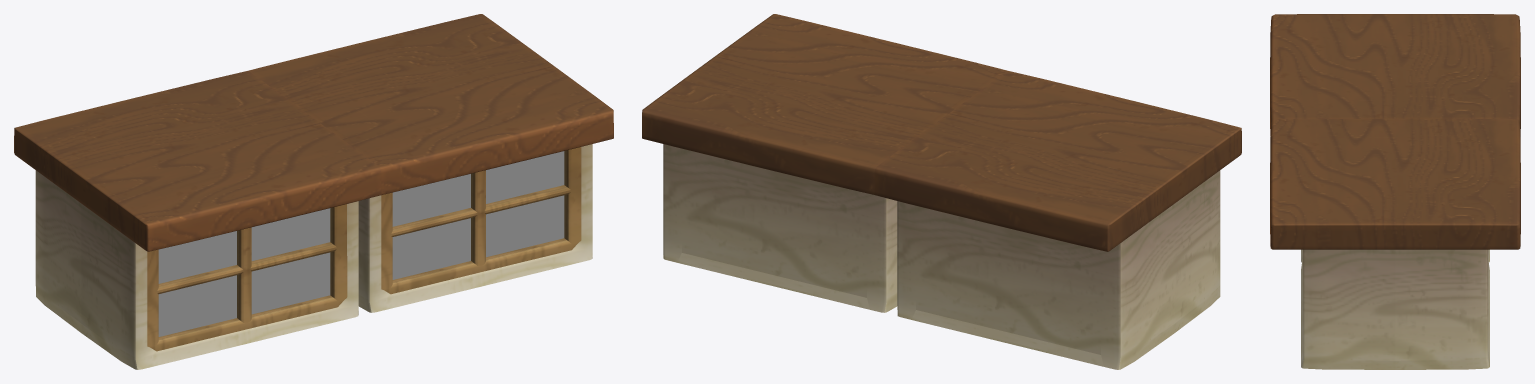
File: ENV_RU_SHOWCASEBOTTOMDOUBLE_MODEL.fbx
3 renders of one model, left to right at view 1: azimuth 30°, elevation 25°; view 2: azimuth 150°, elevation 25°; view 3: azimuth 270°, elevation 25°, orthographic. The views are drawn at different scales.
Visible parts, largest first — view 1: ENV_RU_SHOWCASEBOTTOMDOUBLE_MODEL; view 2: ENV_RU_SHOWCASEBOTTOMDOUBLE_MODEL; view 3: ENV_RU_SHOWCASEBOTTOMDOUBLE_MODEL.
Part boxes in pixels (x1,y1,x2,y2): ENV_RU_SHOWCASEBOTTOMDOUBLE_MODEL: [14, 14, 613, 369]; ENV_RU_SHOWCASEBOTTOMDOUBLE_MODEL: [642, 14, 1241, 369]; ENV_RU_SHOWCASEBOTTOMDOUBLE_MODEL: [1270, 14, 1520, 369].
Size of the model in its own units: 200 by 65 by 101.
